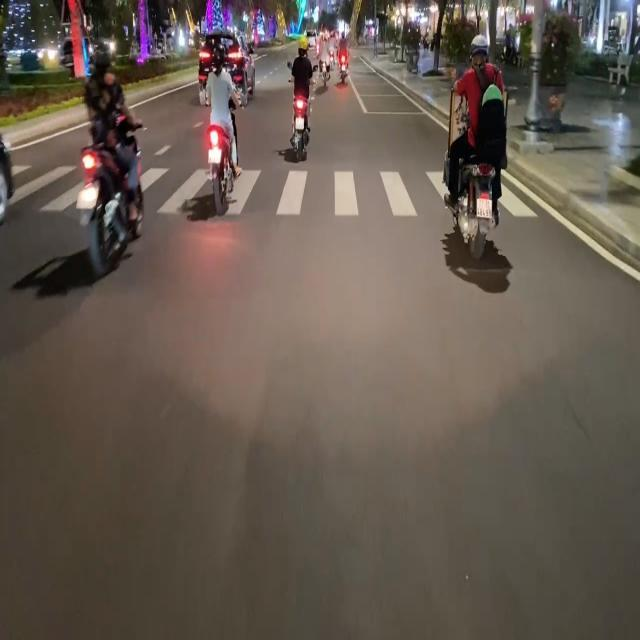walk-crossing: (237, 162, 440, 220), (12, 156, 82, 212), (147, 161, 210, 216)
